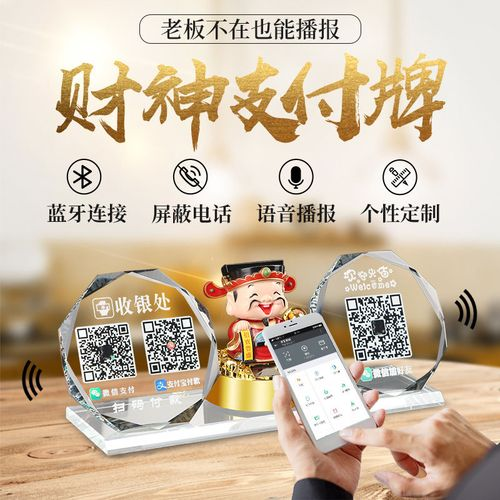QRCode: (340, 291, 418, 362), (72, 320, 143, 387), (137, 316, 205, 377)
